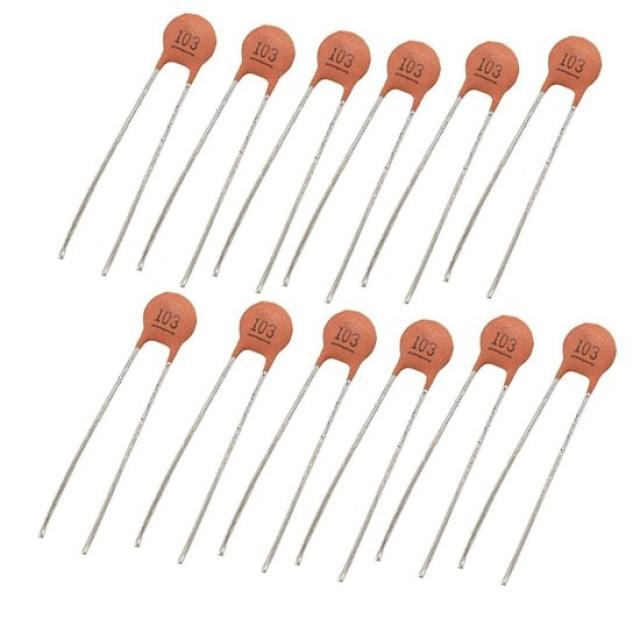Capacitor: (136, 301, 291, 562), (137, 25, 294, 269), (59, 14, 216, 258), (296, 320, 453, 563), (385, 43, 517, 303), (501, 324, 615, 584), (83, 293, 195, 553), (393, 315, 533, 521), (495, 37, 600, 281), (276, 311, 375, 539), (274, 31, 369, 261), (346, 43, 439, 264)
